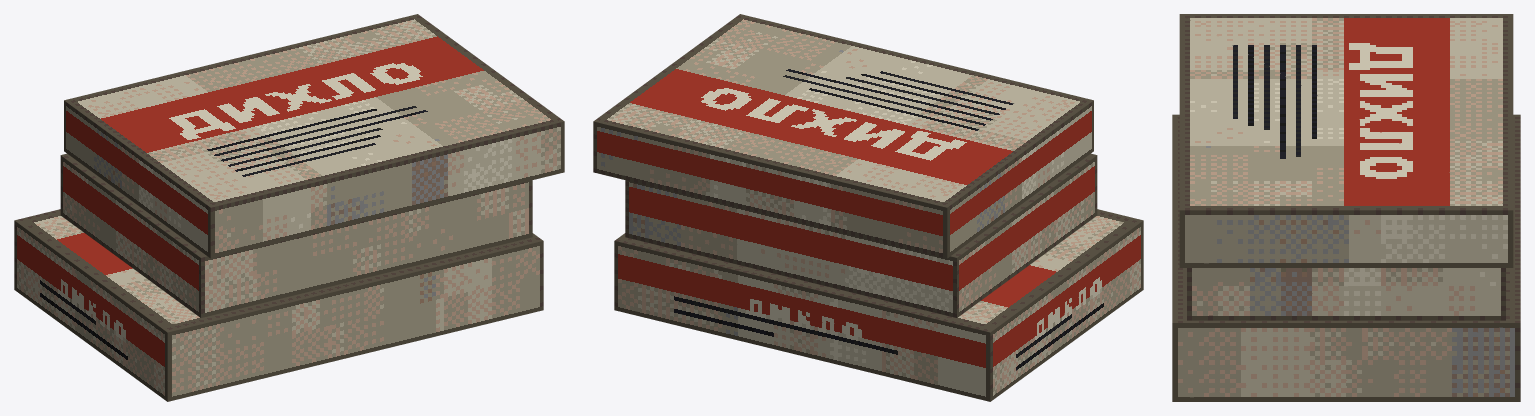
The model's file is SM_Books_01.glb.
3 views of the same model, side by side, from view 1: azimuth 30°, elevation 25°; view 2: azimuth 150°, elevation 25°; view 3: azimuth 270°, elevation 25° (orthographic). The views are drawn at different scales.
Visible parts, largest first — view 1: SM_Books_01; view 2: SM_Books_01; view 3: SM_Books_01.
Boxes of the visible parts, <box> form: SM_Books_01: <box>14,14,564,401</box>; SM_Books_01: <box>593,14,1143,401</box>; SM_Books_01: <box>1172,14,1520,401</box>.
Bounding box in the file's own units: 0.181 × 0.078 × 0.12.
1 material, 1 textured.
